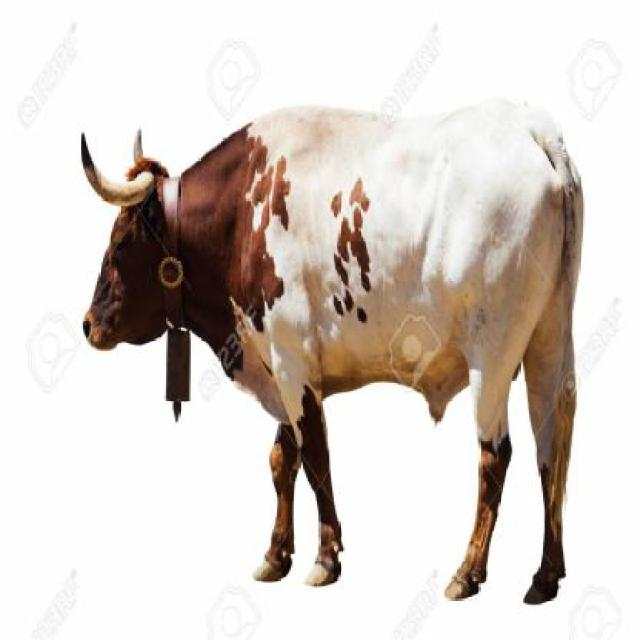Cow: (71, 80, 594, 609)
